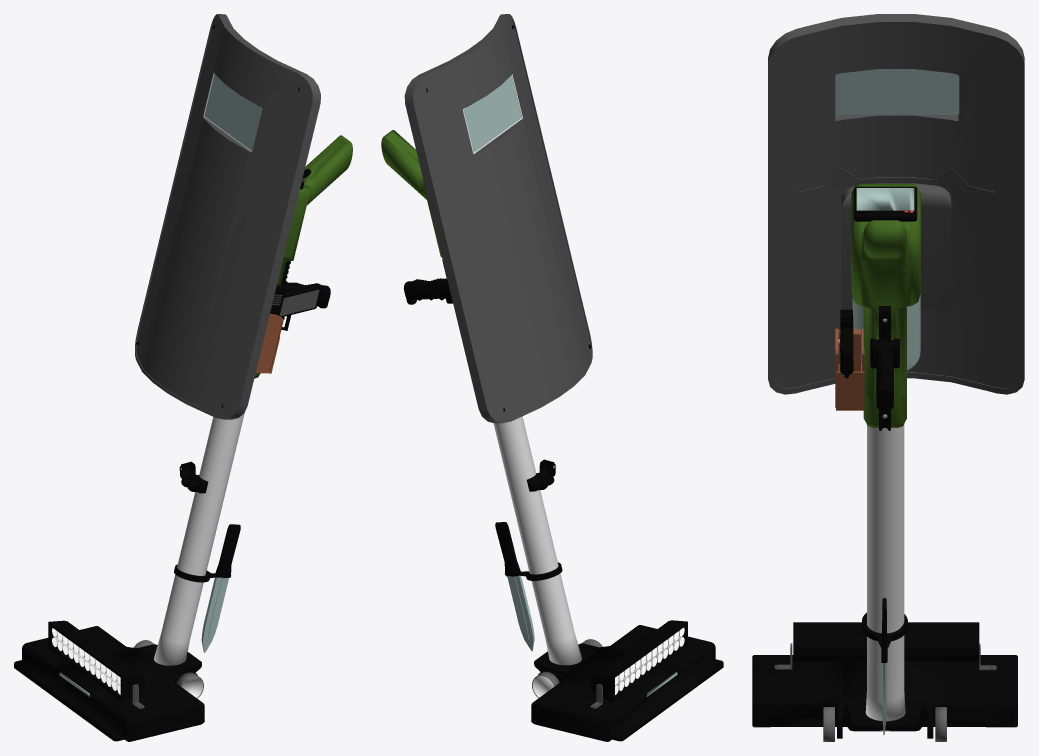
File: vacuumbat.glb
3 renders of one model, left to right at view 1: azimuth 30°, elevation 25°; view 2: azimuth 150°, elevation 25°; view 3: azimuth 270°, elevation 25°, orthographic. The views are drawn at different scales.
Visible parts, largest first — view 1: Shield, Head body, Tube, Lamp, Vacuum body, Gun, Knife, Camera, Head connection; view 2: Shield, Head body, Tube, Lamp, Knife, Vacuum body, Handle, Camera, Head connection; view 3: Shield, Head body, Tube, Vacuum body, Lamp, Gun, Camera, Handle, Head connection, Glass container, Knife.
Boxes of the visible parts, x1,y1,x2,y2 form: Shield: [135, 14, 320, 419]; Head body: [14, 626, 204, 741]; Tube: [154, 413, 244, 665]; Lamp: [48, 620, 144, 708]; Vacuum body: [254, 135, 352, 378]; Gun: [255, 283, 322, 373]; Knife: [174, 524, 240, 652]; Camera: [179, 181, 304, 493]; Head connection: [139, 649, 201, 675]; Shield: [404, 14, 592, 423]; Head body: [531, 625, 723, 741]; Tube: [493, 416, 581, 665]; Lamp: [590, 620, 687, 708]; Knife: [495, 522, 562, 651]; Vacuum body: [381, 130, 441, 257]; Handle: [403, 278, 452, 304]; Camera: [526, 459, 555, 491]; Head connection: [534, 647, 596, 674]; Shield: [768, 14, 1024, 394]; Head body: [752, 655, 1017, 738]; Tube: [865, 424, 905, 731]; Vacuum body: [851, 183, 920, 427]; Lamp: [774, 622, 996, 670]; Gun: [835, 309, 864, 410]; Camera: [853, 186, 917, 221]; Handle: [870, 306, 899, 430]; Head connection: [845, 701, 924, 731]; Glass container: [852, 294, 920, 370]; Knife: [862, 598, 907, 735].
Size of the model in its own units: 1.31 by 2.74 by 0.8716.
